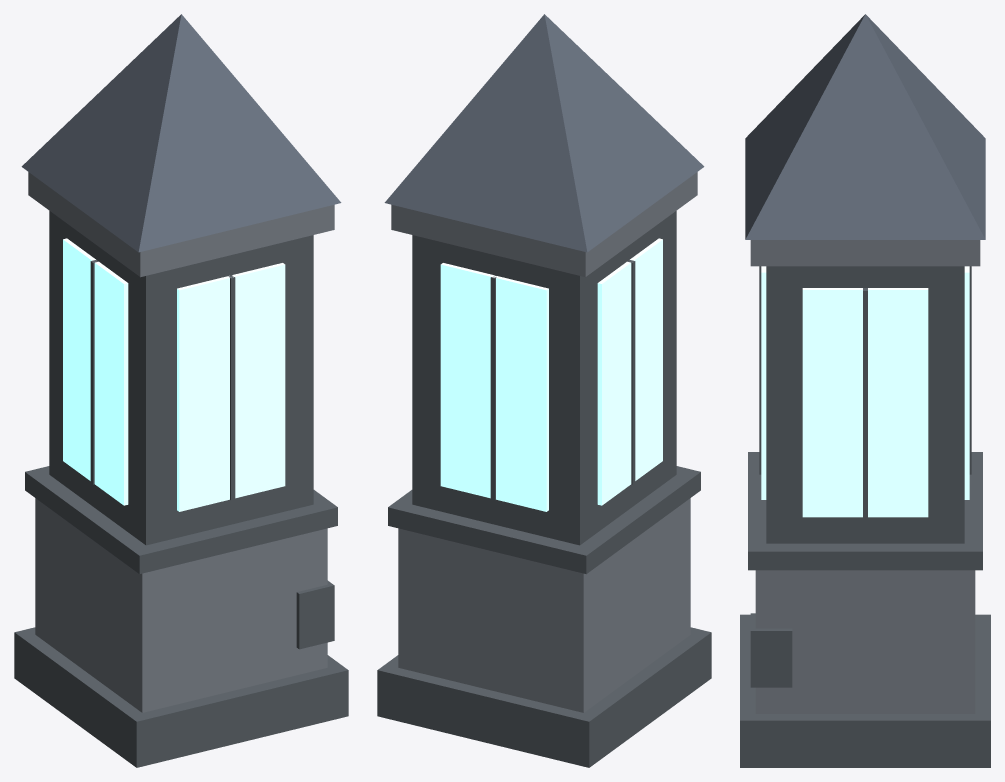
The model's file is haunted_witchtower.glb.
3 views of the same model, side by side, from view 1: azimuth 30°, elevation 25°; view 2: azimuth 150°, elevation 25°; view 3: azimuth 270°, elevation 25° (orthographic). The views are drawn at different scales.
Parts seen in each view (by area): view 1: Haunted_WitchTower; view 2: Haunted_WitchTower; view 3: Haunted_WitchTower.
Boxes of the visible parts, x1=… form: Haunted_WitchTower: x1=14, y1=14, x2=348, y2=767; Haunted_WitchTower: x1=377, y1=14, x2=711, y2=767; Haunted_WitchTower: x1=740, y1=14, x2=990, y2=767.
Size of the model in its own units: 4.8 by 14.8 by 4.8.
